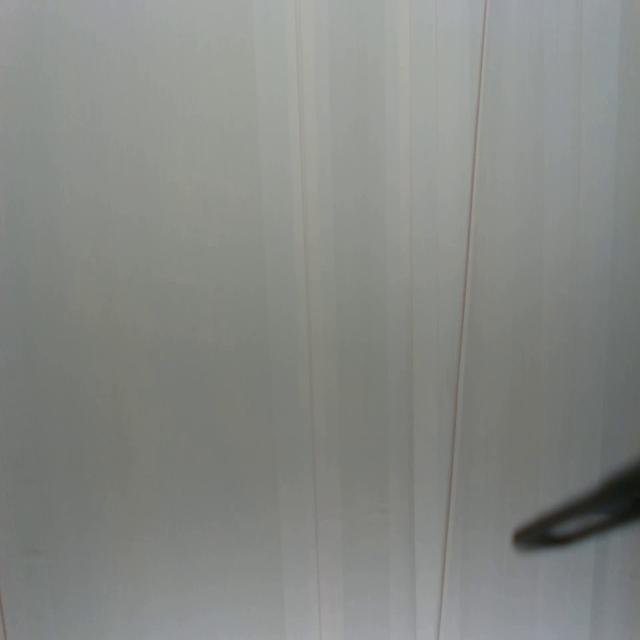crease: (436, 0, 489, 638), (292, 0, 322, 640), (406, 0, 420, 640)
